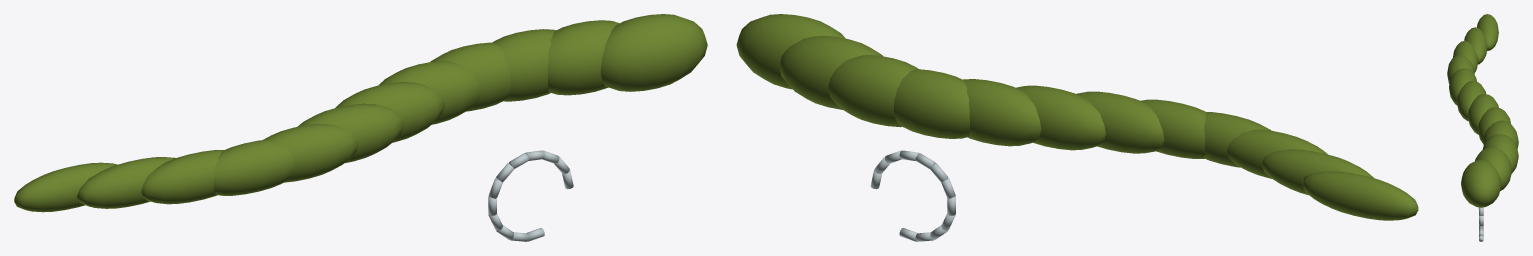
File: SM_SoftBait.fbx
The picture shows the model from 3 angles, left to right: view 1: azimuth 30°, elevation 25°; view 2: azimuth 150°, elevation 25°; view 3: azimuth 270°, elevation 25°; orthographic projection. The views are drawn at different scales.
Visible parts, largest first — view 1: SM_SoftBait; view 2: SM_SoftBait; view 3: SM_SoftBait.
Boxes of the visible parts, bbox=[...] form: SM_SoftBait: bbox=[14, 14, 707, 241]; SM_SoftBait: bbox=[736, 14, 1418, 241]; SM_SoftBait: bbox=[1447, 14, 1518, 241].
Bounding box in the file's own units: 10.6 × 1.77 × 2.86.
